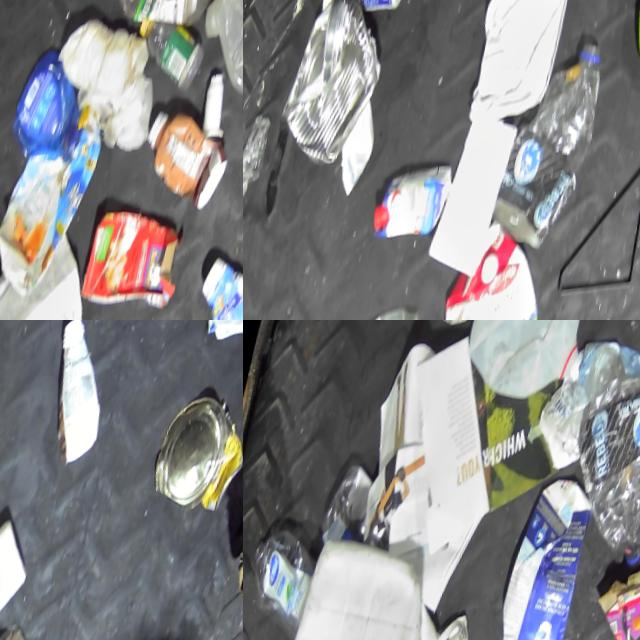can: (273, 0, 399, 179), (148, 394, 243, 527)
milk_jug: (274, 528, 464, 640), (457, 320, 610, 415), (0, 216, 107, 320)
non_white_jug: (0, 100, 112, 306), (485, 473, 602, 640), (416, 227, 566, 320), (370, 151, 458, 253)
plastic_bottle: (487, 35, 613, 258), (555, 376, 640, 584), (243, 522, 324, 640), (129, 19, 212, 100), (82, 0, 232, 43), (321, 458, 383, 549)
